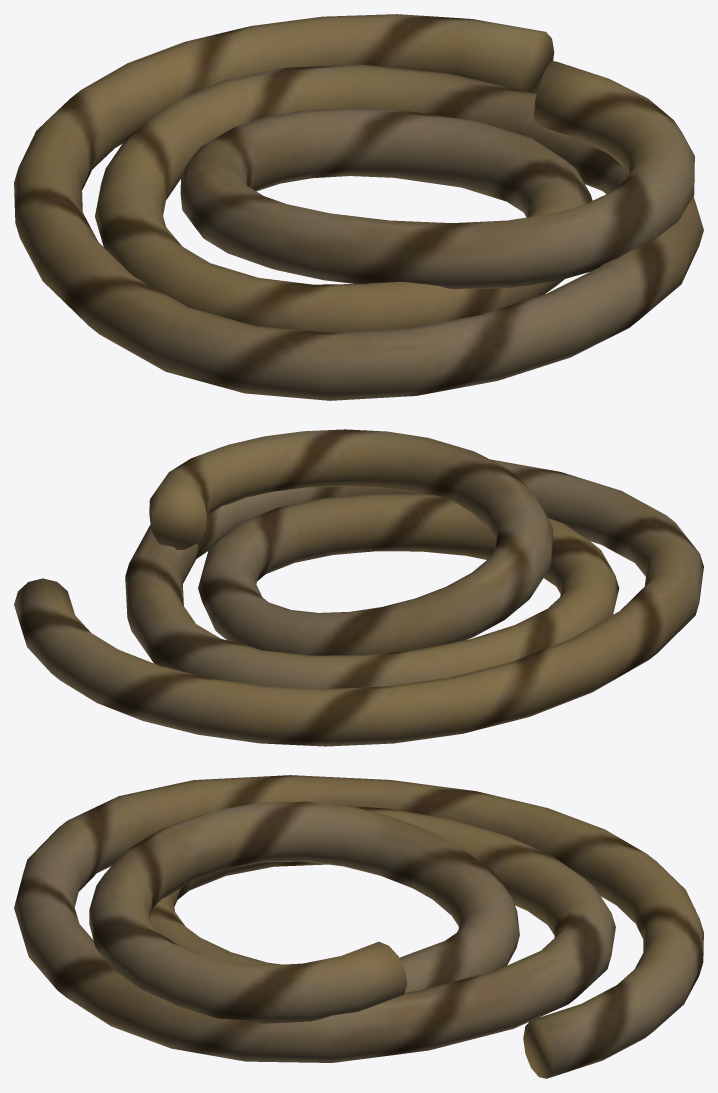
The model's file is Rope_1.glb.
The picture shows the model from 3 angles, top to bottom: view 1: azimuth 30°, elevation 25°; view 2: azimuth 150°, elevation 25°; view 3: azimuth 270°, elevation 25°; orthographic projection. The views are drawn at different scales.
Visible parts, largest first — view 1: Rope_1; view 2: Rope_1; view 3: Rope_1.
Boxes of the visible parts, left/top/right/bottom form: Rope_1: left=14, top=14, right=703, bottom=400; Rope_1: left=14, top=429, right=703, bottom=746; Rope_1: left=14, top=775, right=703, bottom=1078.
Size of the model in its own units: 0.5574 by 0.0979 by 0.6063.
1 material, 1 textured.
